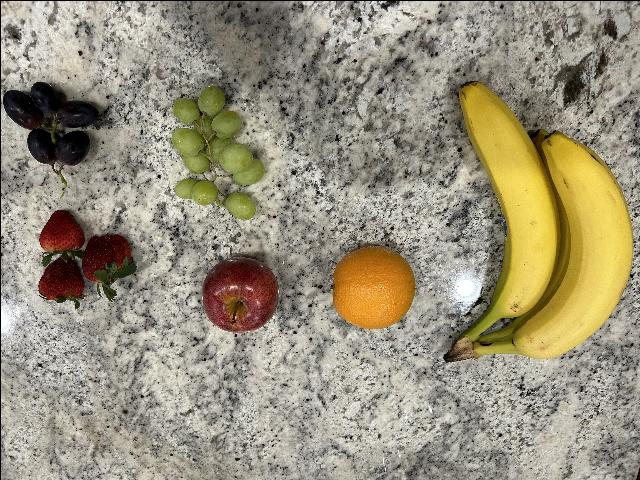Apples: (202, 255, 278, 333)
Bananas: (443, 78, 633, 364)
Grapes: (170, 84, 264, 220), (2, 81, 98, 177)
Oranges: (329, 246, 415, 328)
Strawberries: (83, 234, 137, 300), (38, 207, 84, 262), (36, 256, 84, 308)
